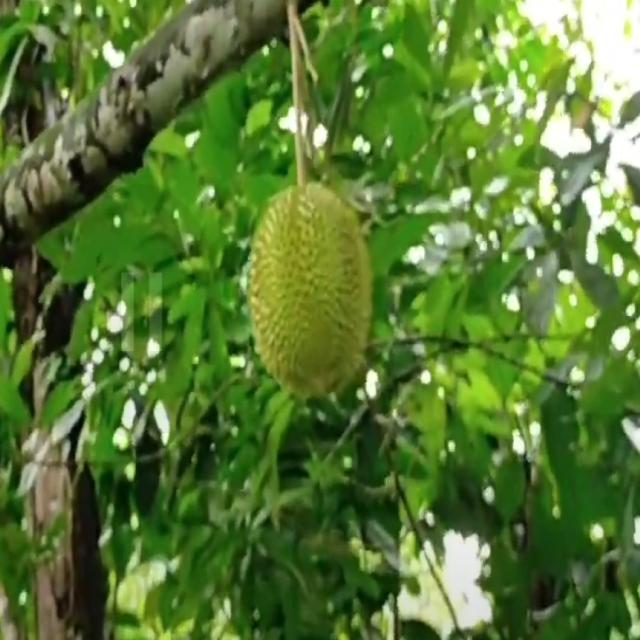immature: (247, 182, 374, 400)
